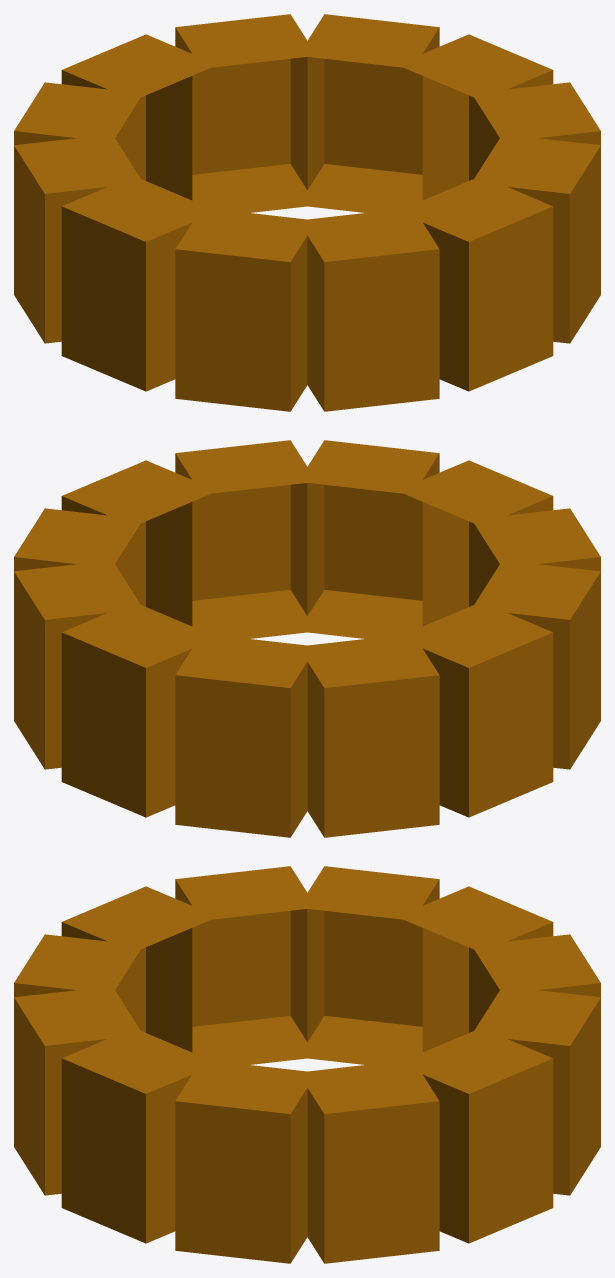
File: TowerGearB.fbx
3 views of the same model, one above another, from view 1: azimuth 30°, elevation 25°; view 2: azimuth 150°, elevation 25°; view 3: azimuth 270°, elevation 25° (orthographic).
Parts seen in each view (by area): view 1: TowerGearB; view 2: TowerGearB; view 3: TowerGearB.
Part boxes in pixels (x1=…): TowerGearB: x1=14, y1=14, x2=600, y2=411; TowerGearB: x1=14, y1=440, x2=600, y2=837; TowerGearB: x1=14, y1=866, x2=600, y2=1263.
Size of the model in its own units: 78.99 by 22.22 by 78.99.
